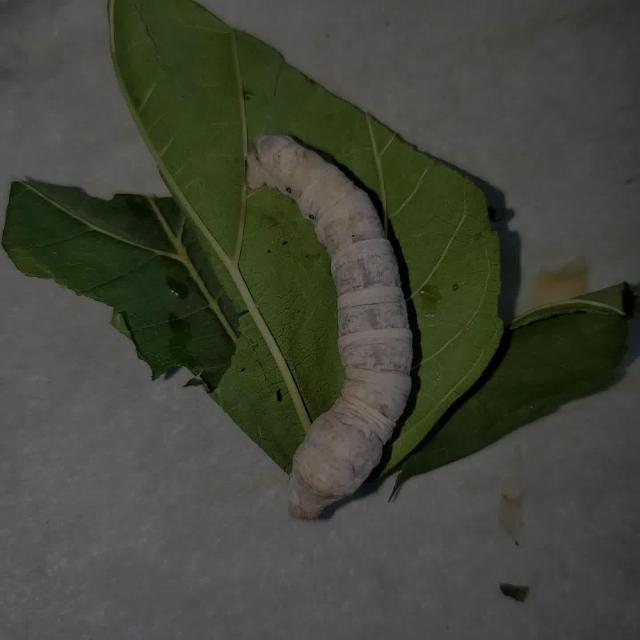Grasserie: (198, 92, 480, 546)
